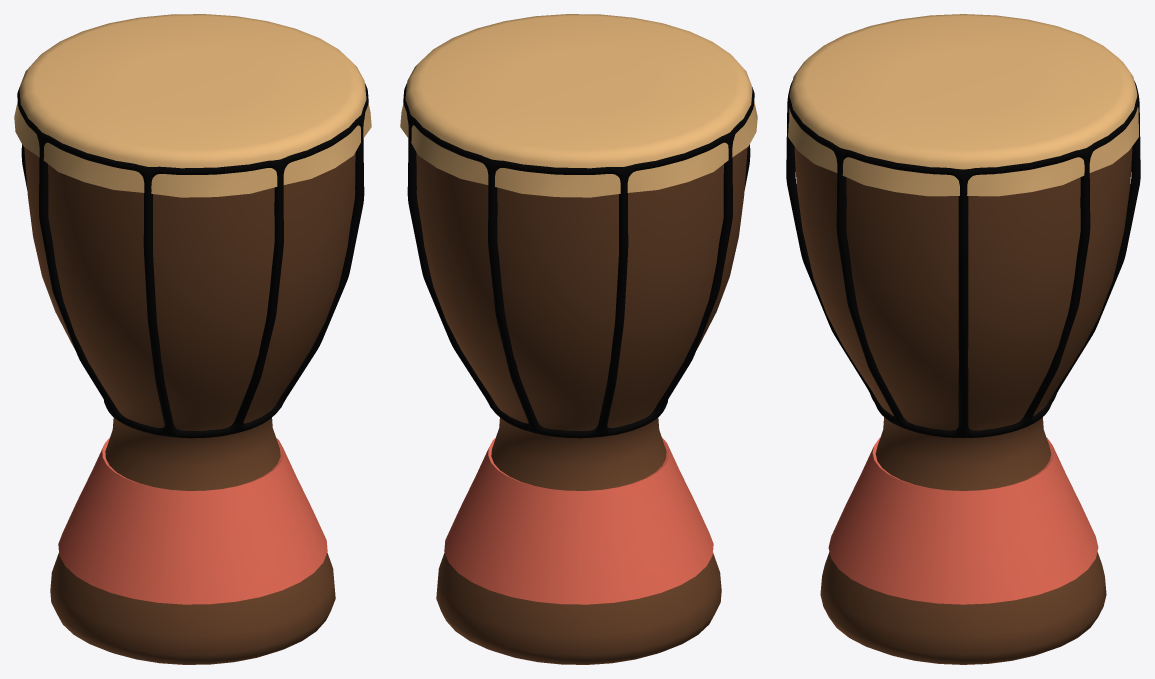
Rendered from bong.fbx.
3 renders of one model, left to right at view 1: azimuth 30°, elevation 25°; view 2: azimuth 150°, elevation 25°; view 3: azimuth 270°, elevation 25°, orthographic.
Parts seen in each view (by area): view 1: Circle; view 2: Circle; view 3: Circle.
Boxes of the visible parts, <box> form: Circle: <box>14,14,371,664</box>; Circle: <box>400,14,757,664</box>; Circle: <box>786,14,1140,664</box>.
Bounding box in the file's own units: 207 × 344 × 207.
